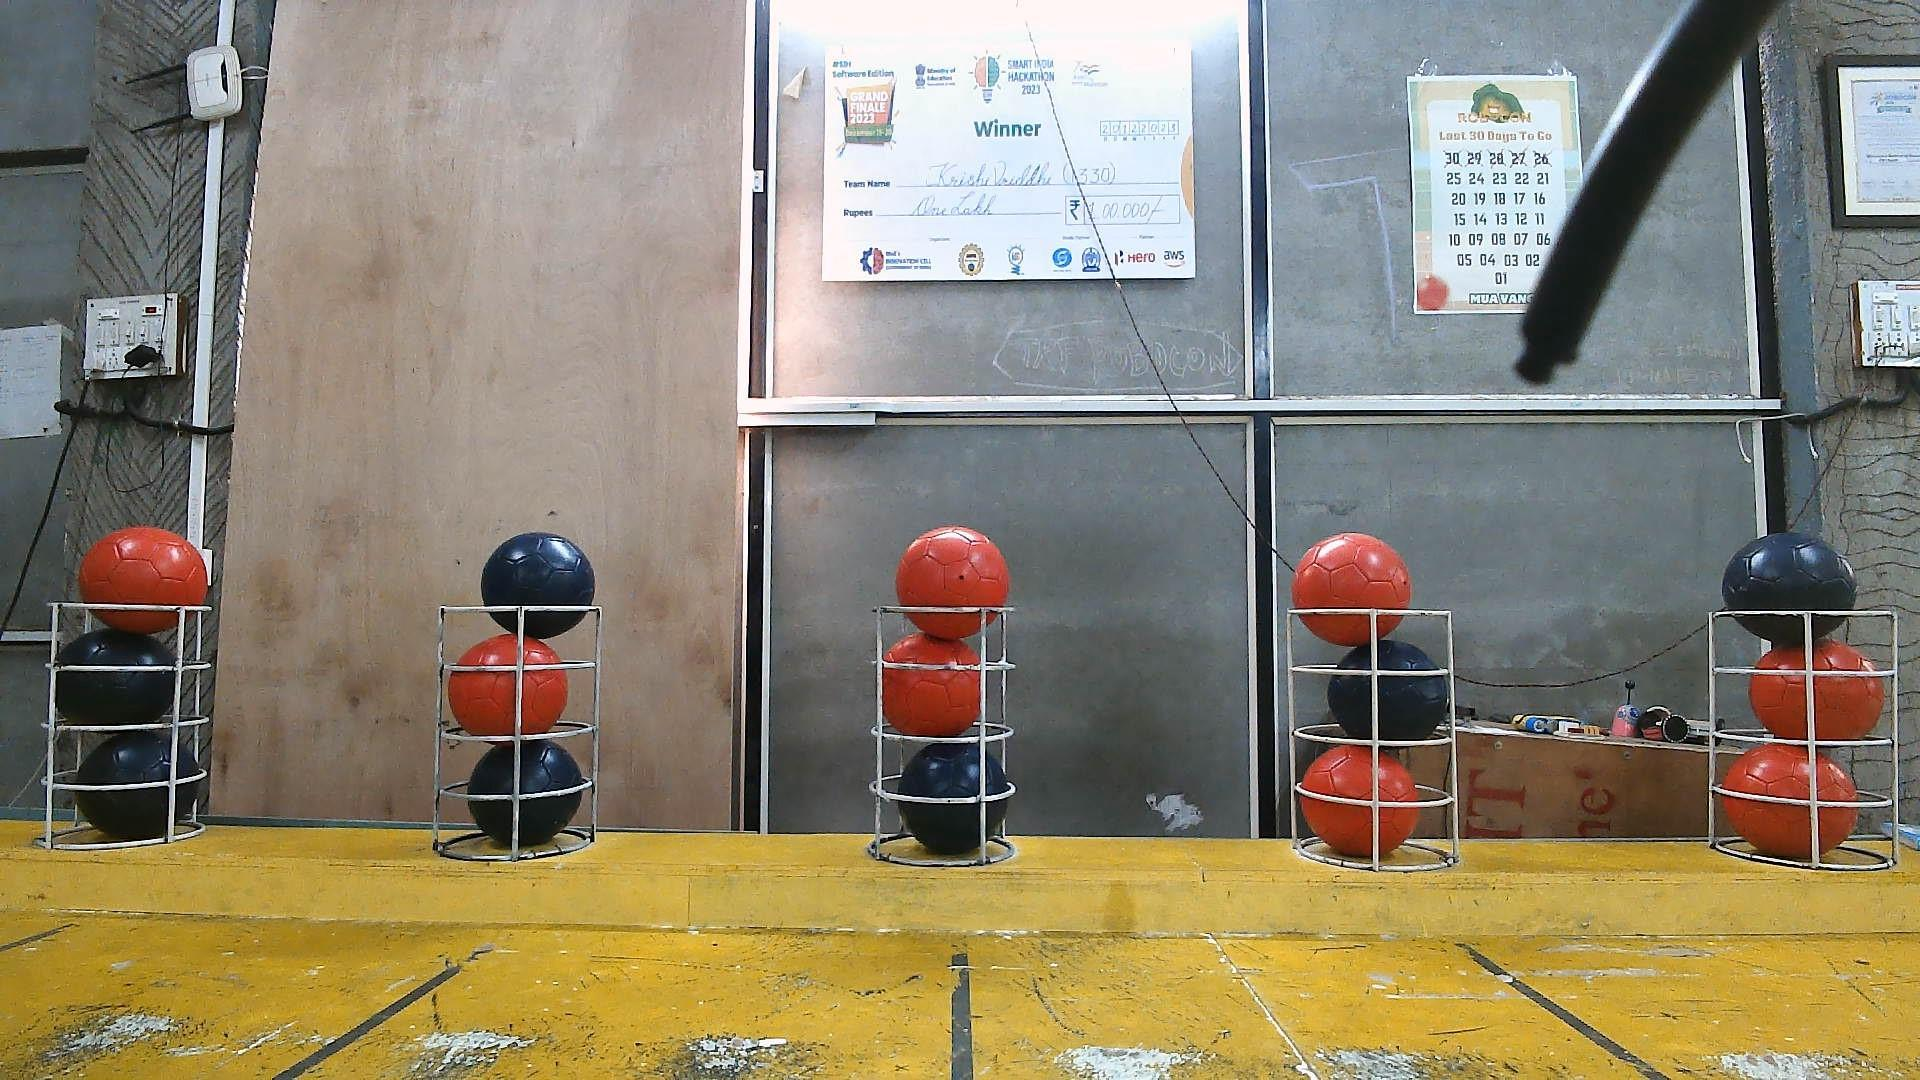dhoka: (1721, 533, 1857, 645), (75, 728, 203, 840), (1328, 637, 1452, 742), (897, 742, 1013, 855), (468, 738, 585, 848), (480, 533, 596, 637), (57, 630, 177, 724)
laale: (1721, 742, 1859, 862), (1747, 637, 1886, 742), (79, 525, 210, 634), (1298, 742, 1418, 858), (1290, 533, 1410, 647), (897, 525, 1009, 641), (446, 634, 570, 735), (881, 634, 982, 737)
